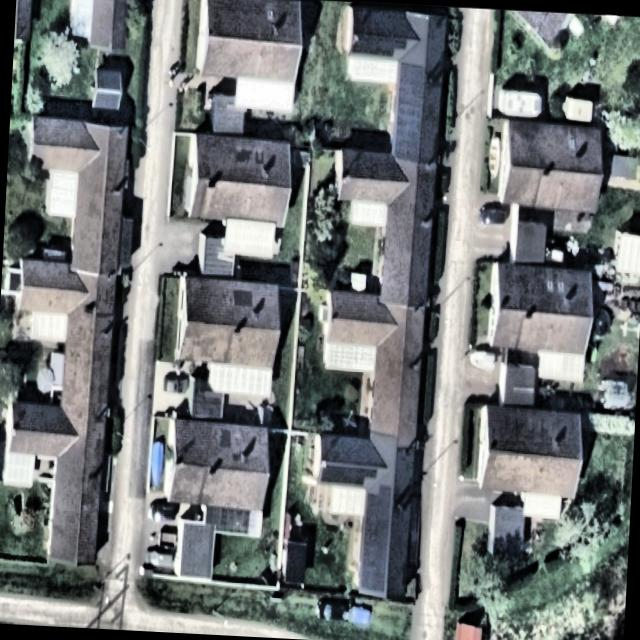roof_pv: (358, 481, 392, 592), (392, 57, 423, 161), (318, 465, 378, 487)
